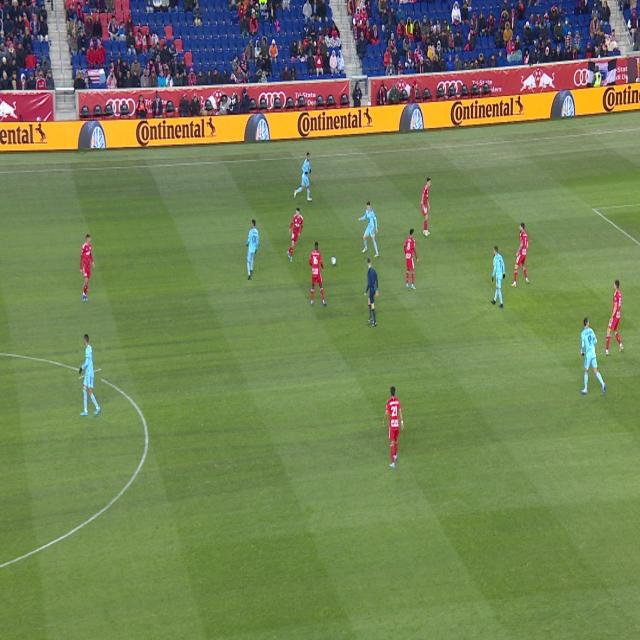football: (331, 256, 336, 265)
player: (581, 318, 606, 395), (79, 334, 101, 416), (383, 386, 404, 469), (605, 278, 624, 356), (358, 200, 379, 258), (511, 222, 529, 287), (309, 241, 326, 306), (80, 232, 95, 302), (404, 227, 419, 290), (490, 245, 505, 308), (293, 152, 312, 201), (287, 207, 303, 262), (247, 219, 259, 280), (421, 178, 431, 237), (601, 352, 603, 356)
referee: (365, 257, 378, 327)
